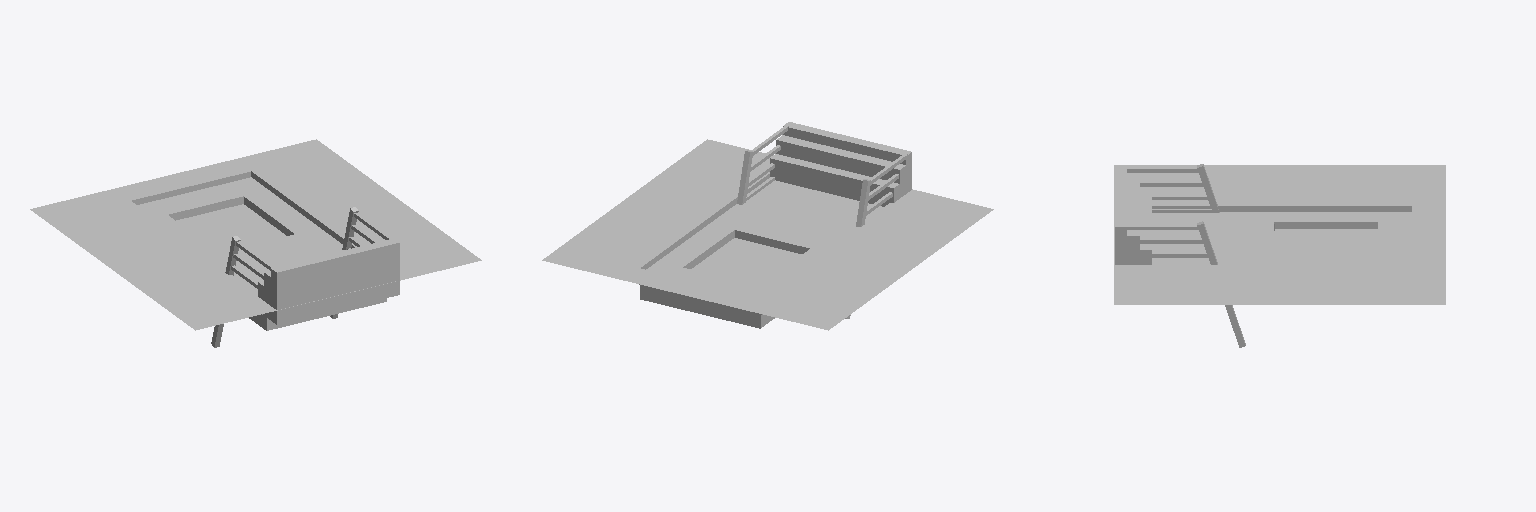
Rendered from door2.obj.
The picture shows the model from 3 angles: view 1: azimuth 30°, elevation 25°; view 2: azimuth 150°, elevation 25°; view 3: azimuth 270°, elevation 25°; orthographic projection.
Visible parts, largest first — view 1: door3:pPlane5, door3:pCube6, pCube1; view 2: door3:pPlane5, door3:pCube6, pCube1; view 3: door3:pPlane5, door3:pCube6, pCube1, pCube10 polySurface9.
Part boxes in pixels (bbox=[...]): door3:pPlane5: bbox=[30, 139, 481, 330]; door3:pCube6: bbox=[138, 177, 343, 314]; pCube1: bbox=[258, 238, 399, 324]; door3:pPlane5: bbox=[542, 139, 993, 330]; door3:pCube6: bbox=[639, 180, 883, 314]; pCube1: bbox=[770, 122, 911, 206]; door3:pPlane5: bbox=[1114, 165, 1445, 304]; door3:pCube6: bbox=[1152, 212, 1411, 264]; pCube1: bbox=[1115, 169, 1151, 264]; pCube10 polySurface9: bbox=[1197, 221, 1245, 347].
Bounding box in the file's own units: 1 × 0.4142 × 1.